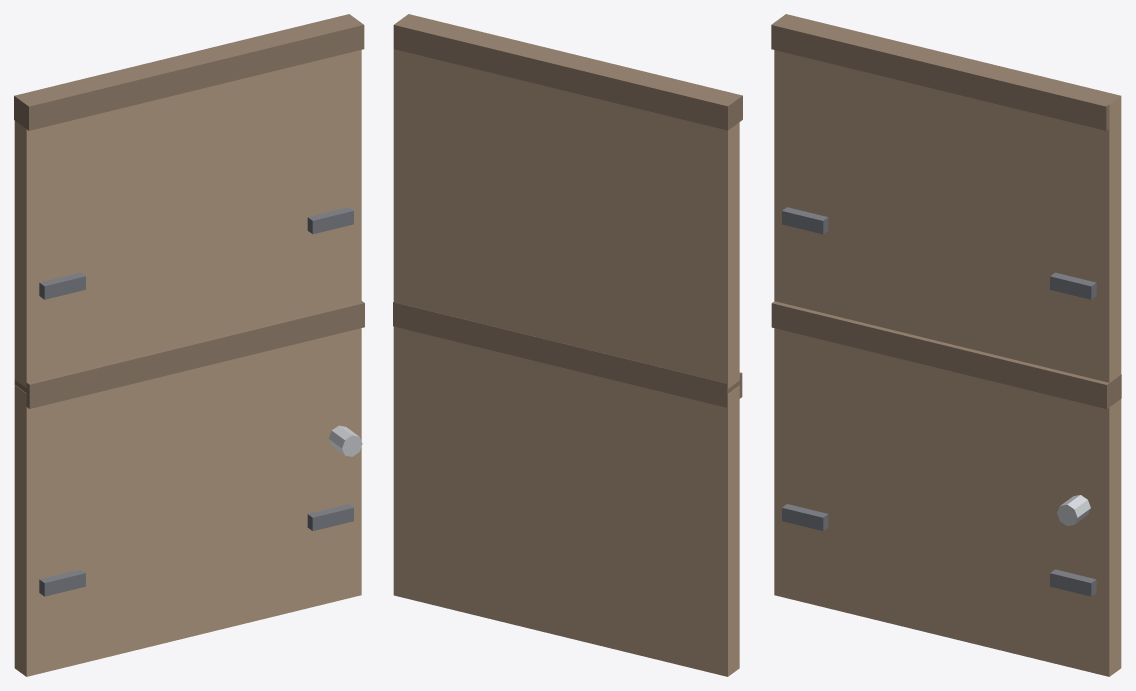
File: dutch-door.glb
The picture shows the model from 3 angles, left to right: view 1: azimuth 30°, elevation 25°; view 2: azimuth 150°, elevation 25°; view 3: azimuth 330°, elevation 25°; orthographic projection.
Visible parts, largest first — view 1: dutch-door; view 2: dutch-door; view 3: dutch-door.
Part boxes in pixels (x1,y1,x2,y2): dutch-door: [14, 14, 364, 676]; dutch-door: [393, 14, 742, 676]; dutch-door: [771, 14, 1121, 676].
Size of the model in its own units: 1.3 by 2.12 by 0.1912.
